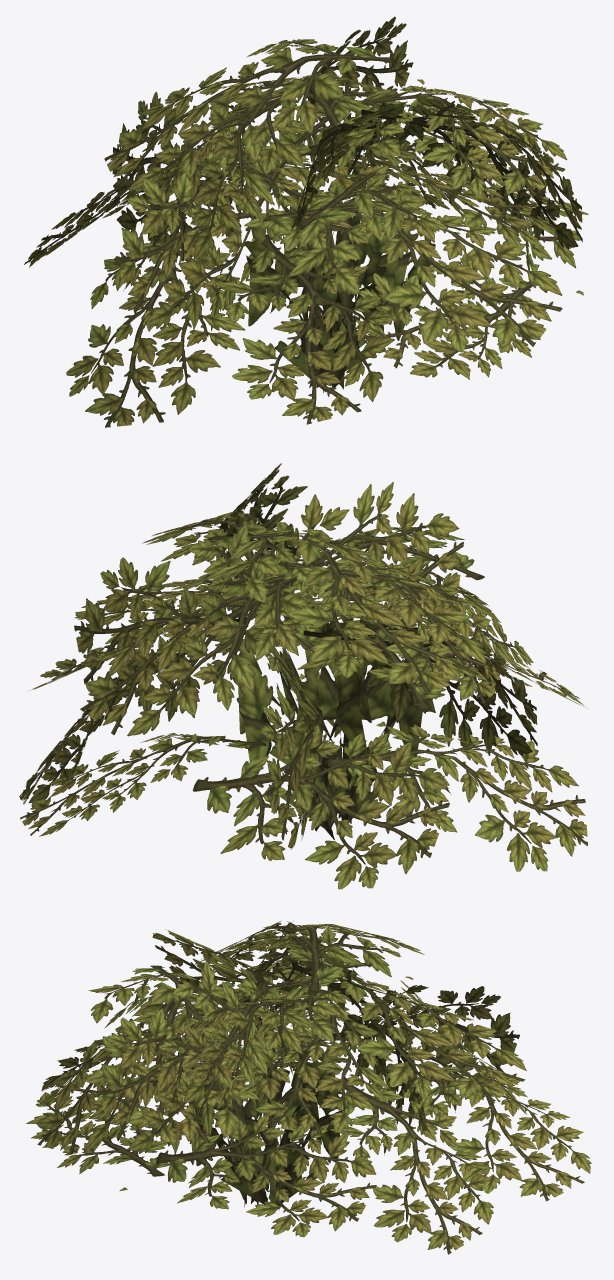
Rendered from Bush01.dae.
3 views of the same model, one above another, from view 1: azimuth 30°, elevation 25°; view 2: azimuth 150°, elevation 25°; view 3: azimuth 270°, elevation 25° (orthographic). The views are drawn at different scales.
Visible parts, largest first — view 1: Bush01; view 2: Bush01; view 3: Bush01.
Boxes of the visible parts, x1,y1,x2,y2 form: Bush01: (24,16,588,427); Bush01: (19,463,587,889); Bush01: (26,920,591,1254).
Bounding box in the file's own units: 1.87 × 1.99 × 1.13.
